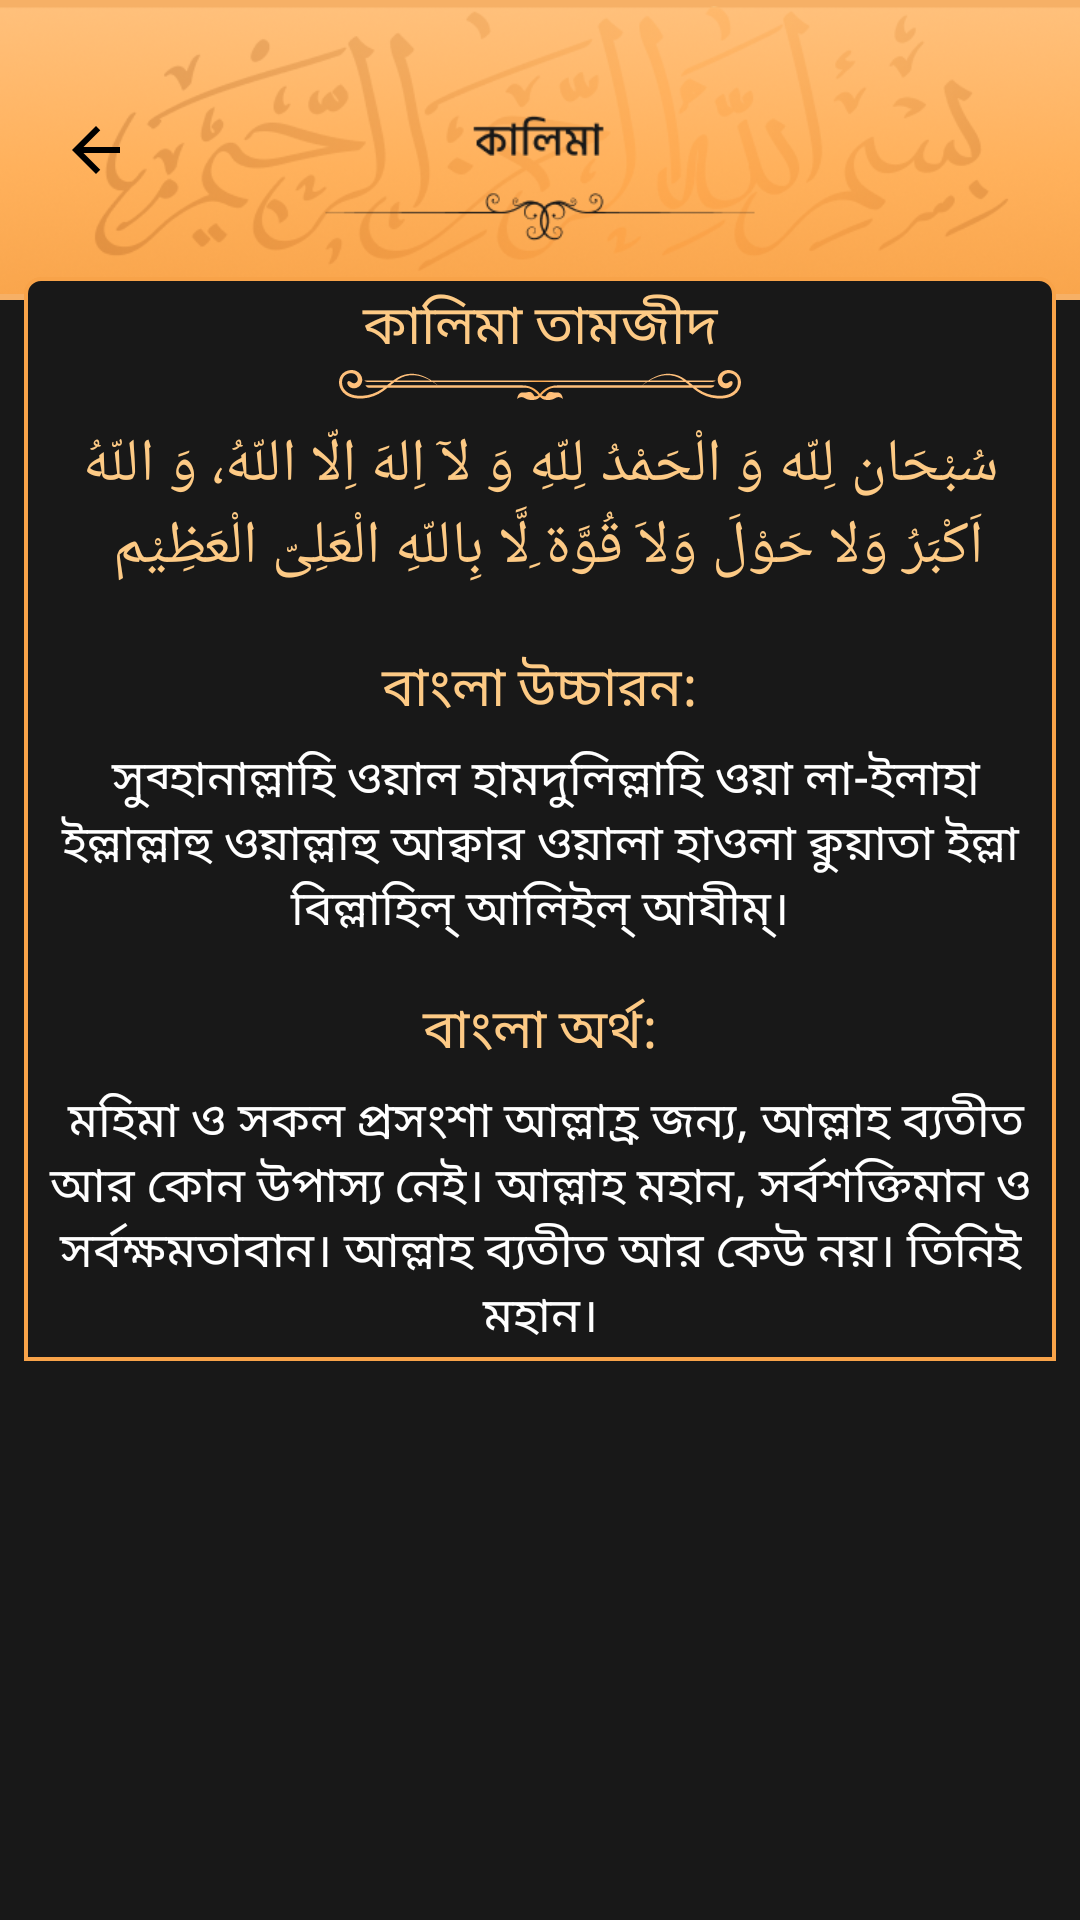

Point at icon controls on the screen. Image size 1080px×1920px, points as (x=x, y=y).
back: (x=102, y=150)
